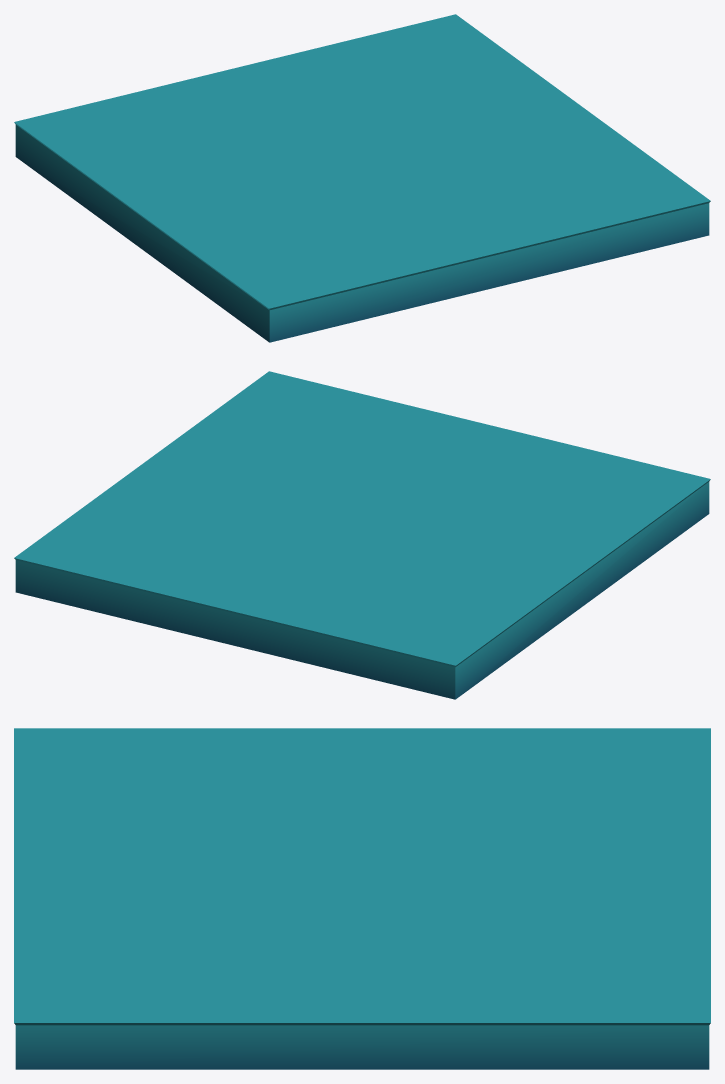
File: water-open.glb
3 renders of one model, top to bottom at view 1: azimuth 30°, elevation 25°; view 2: azimuth 150°, elevation 25°; view 3: azimuth 270°, elevation 25°, orthographic. The views are drawn at different scales.
Visible parts, largest first — view 1: water_open; view 2: water_open; view 3: water_open.
Boxes of the visible parts, x1,y1,x2,y2 form: water_open: (14,14,710,342); water_open: (14,371,710,699); water_open: (14,728,710,1069).
Size of the model in its own units: 4 by 0.3001 by 4.
